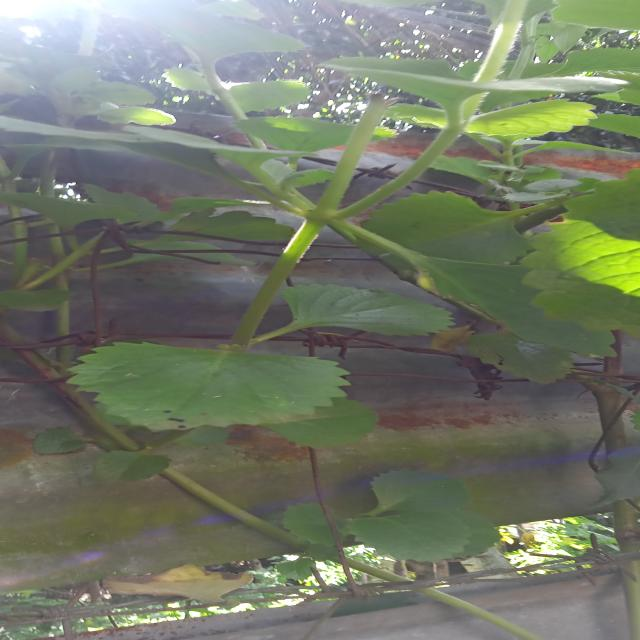Oregano: (319, 33, 633, 158), (281, 454, 534, 592), (56, 334, 373, 440), (237, 282, 455, 358), (449, 312, 623, 405)
